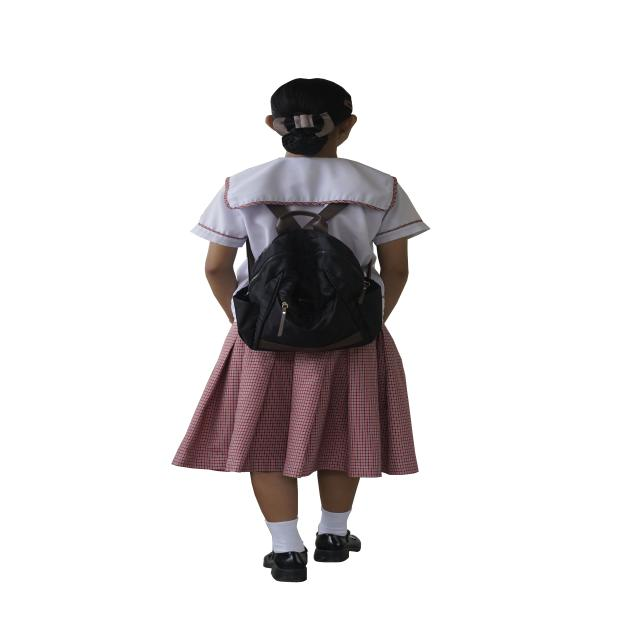pologirl: (192, 157, 429, 269)
shoes: (263, 547, 308, 583), (314, 530, 361, 563)
skirt: (172, 325, 418, 478)
